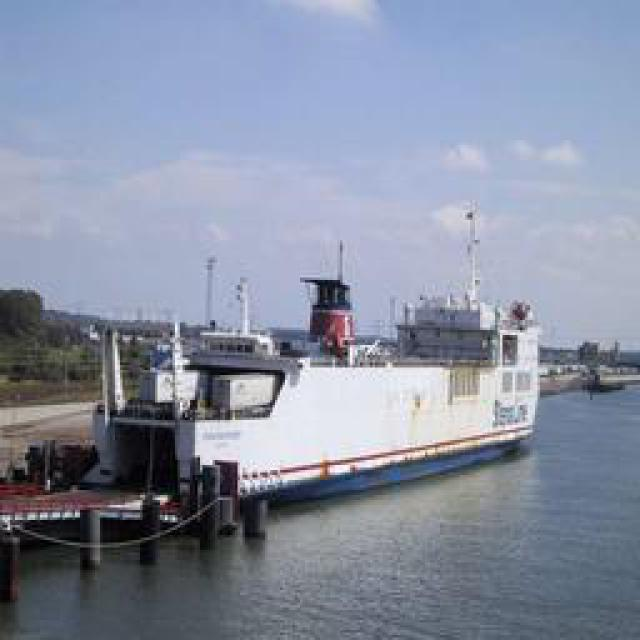Ship: (93, 223, 541, 531)
